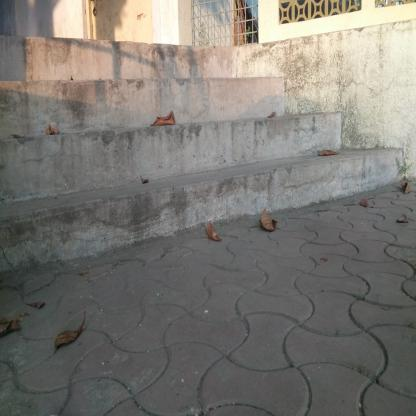stairs: (41, 64, 257, 256)
